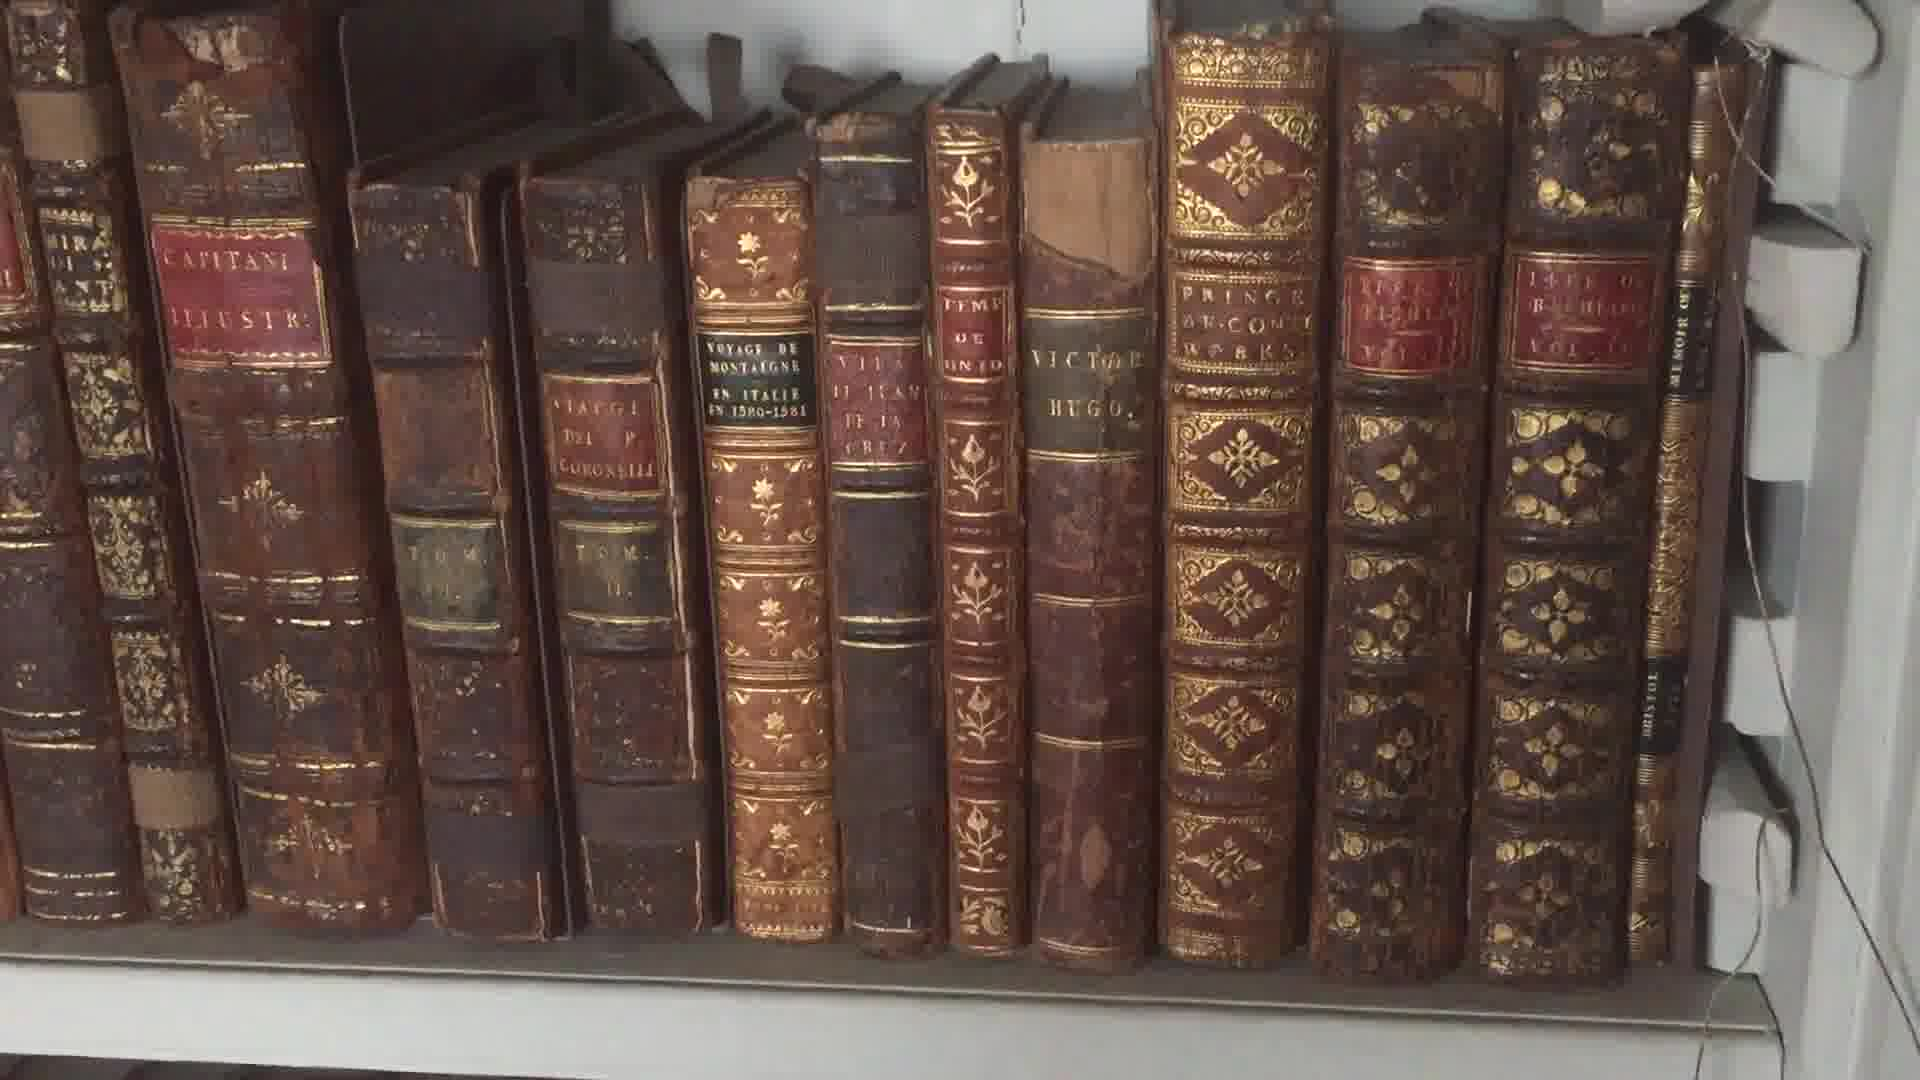Aa6-39_40: (328, 164, 738, 948)
Aa6-41: (651, 135, 855, 944)
Aa6-42: (799, 127, 953, 956)
Aa6-43: (914, 90, 1040, 961)
Aa6-44: (1021, 131, 1178, 957)
Aa6-45: (1146, 24, 1338, 982)
Aa6-46-47: (1321, 40, 1646, 996)
Aa6-48: (1633, 26, 1741, 1005)
